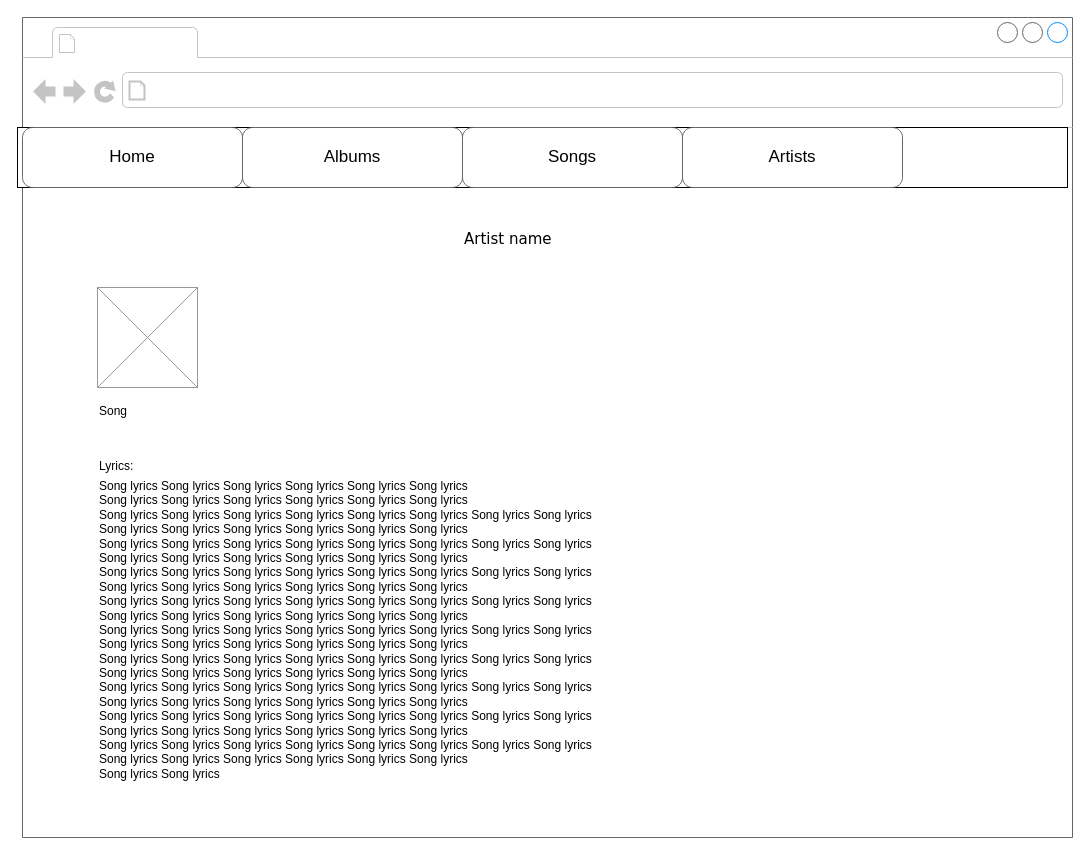
Some shapes in this 1090 by 855 pixel diagram are drawn without their labels. Each missing label, with the box of its shape:
https://www.default.com/songs/song: (152, 76, 402, 104)
Page 1: (82, 28, 192, 56)
